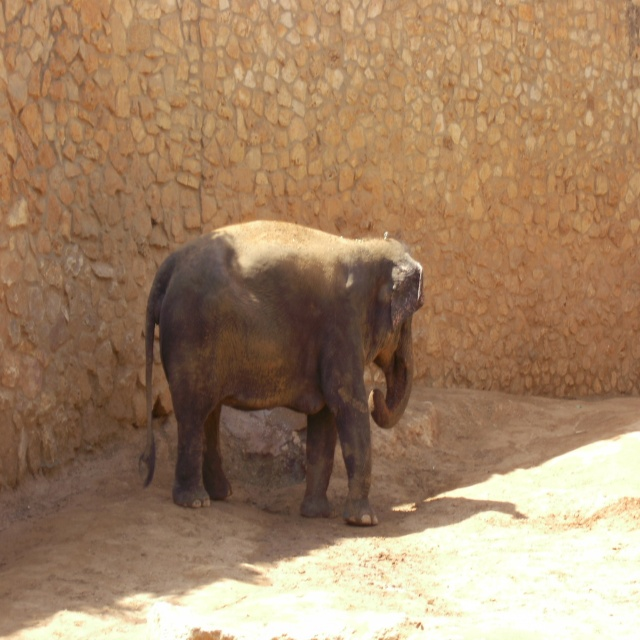Elephant: (127, 211, 406, 533)
